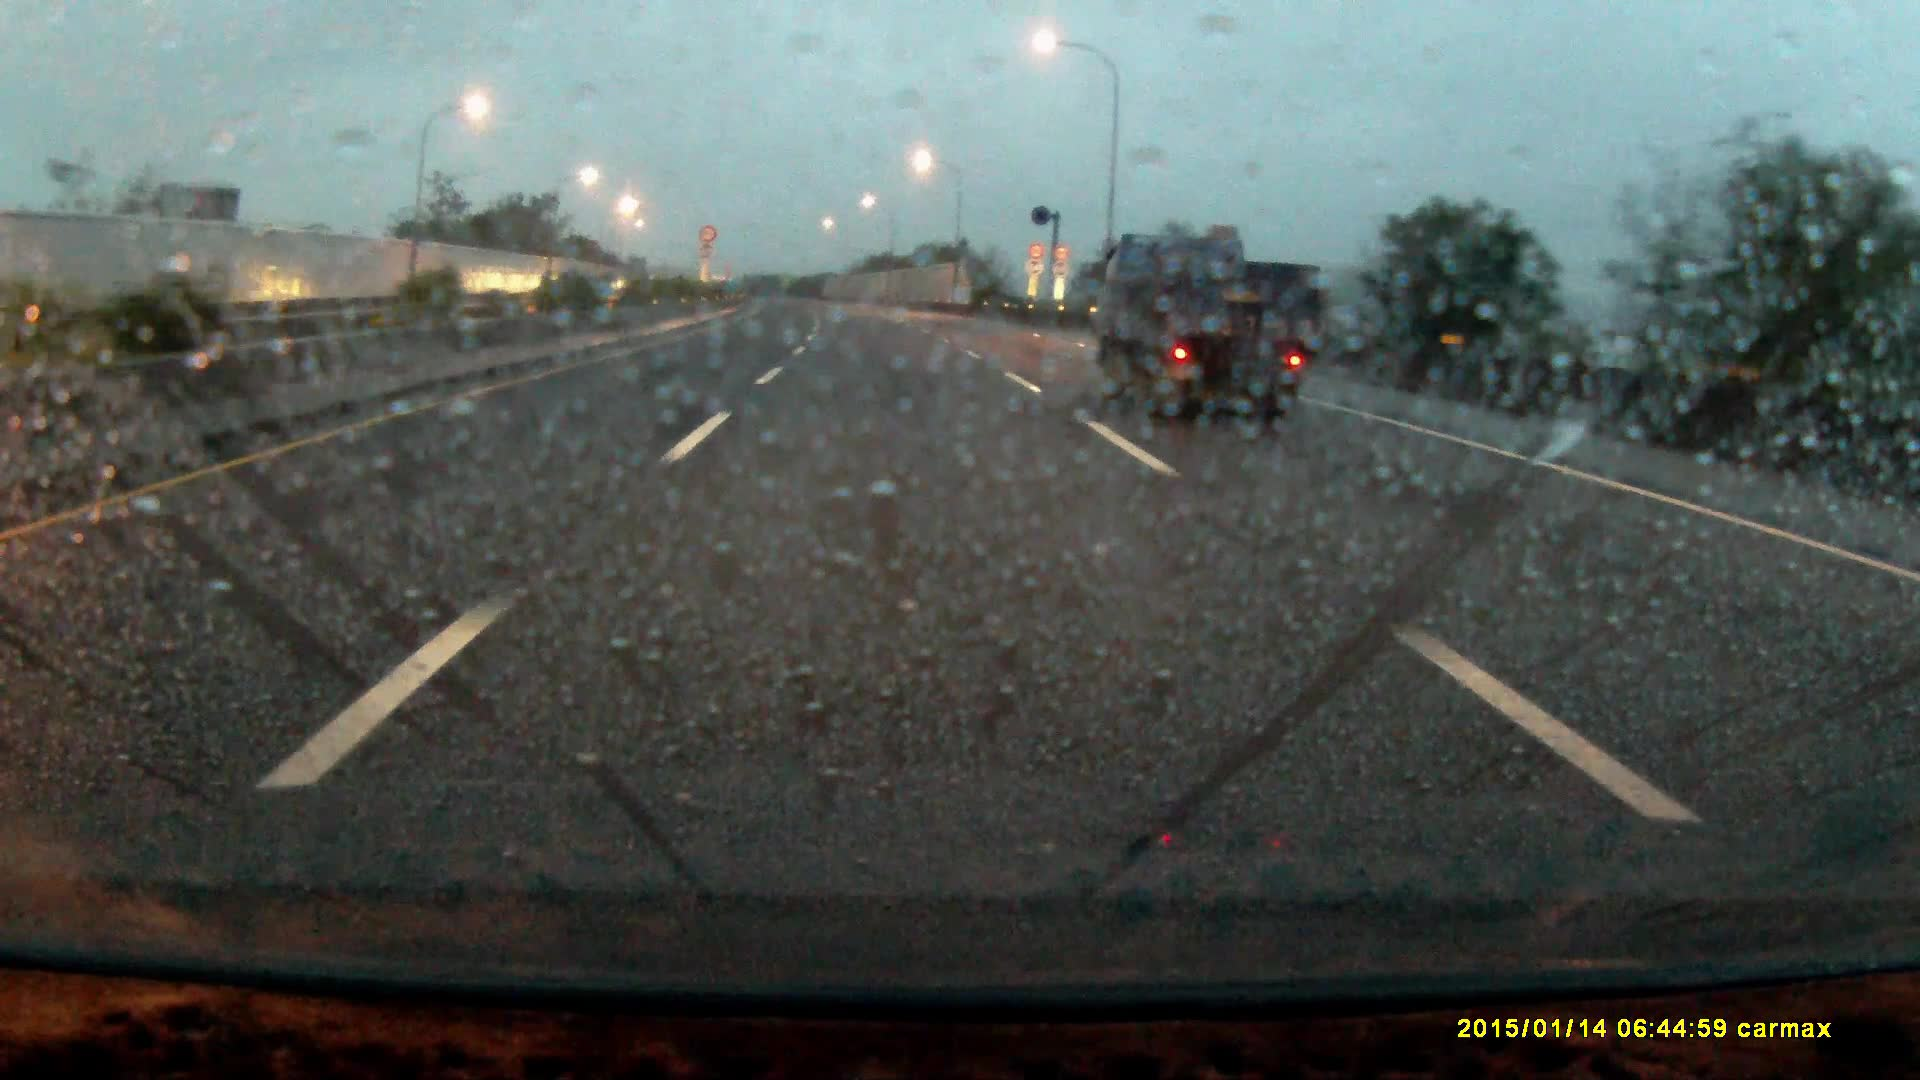vehicle: (1095, 241, 1315, 419)
